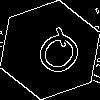Q: (25, 25, 88, 87)
